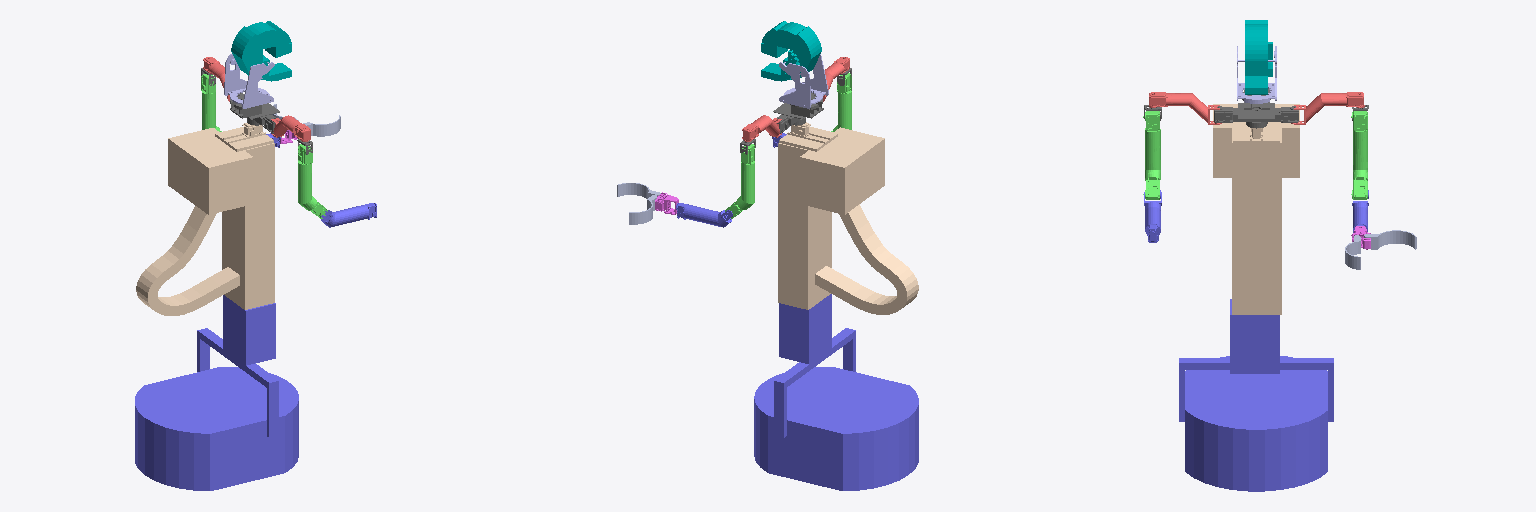
--- What the picture shows (computed from the rendered views, not written in the file) ---
Views: 3 orthographic renders of the robot side by side, from view 1: azimuth 30°, elevation 25°; view 2: azimuth 150°, elevation 25°; view 3: azimuth 270°, elevation 25°.
Robot: golem — 22 links, 21 joints (17 revolute, 1 prismatic, 3 fixed); root link world; default pose: all joints at 0.
Visible links, largest first — view 1: base_link, body, head2, head1, r_arm, chest, r_forearm, l_arm, r_shoulder_m10; view 2: base_link, body, head2, head1, l_arm, l_forearm, chest, r_arm, l_shoulder_m20; view 3: base_link, body, head2, chest, r_arm, l_arm, r_shoulder_m10, l_shoulder_m20, l_gripper_m27, r_forearm, head1.
Boxes of the visible links, x1,y1,x2,y2 form: base_link: [135, 295, 298, 490]; body: [136, 123, 274, 315]; head2: [231, 21, 291, 81]; head1: [224, 54, 274, 108]; r_arm: [298, 144, 327, 218]; chest: [230, 93, 279, 133]; r_forearm: [321, 203, 376, 227]; l_arm: [201, 74, 221, 131]; r_shoulder_m10: [271, 115, 310, 141]; base_link: [754, 294, 918, 490]; body: [778, 122, 918, 314]; head2: [761, 21, 821, 81]; head1: [779, 54, 828, 108]; l_arm: [725, 144, 754, 218]; l_forearm: [676, 203, 732, 227]; chest: [773, 93, 823, 133]; r_arm: [831, 73, 851, 131]; l_shoulder_m20: [742, 115, 781, 141]; base_link: [1179, 299, 1333, 491]; body: [1213, 104, 1299, 314]; head2: [1245, 20, 1272, 94]; chest: [1214, 89, 1298, 128]; r_arm: [1143, 111, 1160, 199]; l_arm: [1351, 111, 1367, 199]; r_shoulder_m10: [1149, 92, 1221, 124]; l_shoulder_m20: [1291, 92, 1364, 124]; l_gripper_m27: [1364, 230, 1416, 249]; r_forearm: [1144, 190, 1161, 242]; head1: [1237, 46, 1276, 103].
Size in the robot's own frame: 0.9882 by 0.8808 by 1.6 metres.
16 mesh visuals loaded from 19 distinct referenced files (16 binary STL); not drawn: 3 (reference not matched to a file when rendering).

The robot description file, URDF, robot "golem":
<?xml version="1.0" ?>
<!-- =================================================================================== -->
<!-- |    This document was autogenerated by xacro from golem.xacro                    | -->
<!-- |    EDITING THIS FILE BY HAND IS NOT RECOMMENDED                                 | -->
<!-- =================================================================================== -->
<!-- 
Author: Uriel Ortiz   
E-Mail: [email redacted]    
Date:   august/2016

This is the main XML code for the Golem URDF.
URDF allow to simulate accurately geometry and kinematics of a robot
with programs like gazebo or rviz.
-->
<robot name="golem">

  <!-- Used for fixing robot to Gazebo 'base_link' -->
  <link name="world"/>
  <!-- Base link -->
  <link name="base_link">
    <inertial>
      <origin rpy="0 0 0" xyz="0.0 0.0 0.0"/>
      <mass value="2"/>
      <inertia ixx="0.002" ixy="0.0000" ixz="0.0000" iyy="0.002" iyz="0.0000" izz="0.002"/>
    </inertial>
    <visual>
      <origin rpy="0 0 0" xyz="0 0 0"/>
      <geometry>
        <mesh filename="package://golem_description/meshes/base_link.STL"/>
      </geometry>
      <material name="">
        <color rgba="0.5 0.5 1 1"/>
      </material>
    </visual>
    <collision>
      <origin rpy="0 0 0" xyz="0 0 0"/>
      <geometry>
        <mesh filename="package://golem_description/meshes/base_link.STL"/>
      </geometry>
    </collision>
  </link>
  <joint name="fixed" type="fixed">
    <parent link="world"/>
    <child link="base_link"/>
  </joint>
  <!-- Body motor -->
  <link name="body">
    <inertial>
      <origin rpy="0 0 0" xyz="-0.0881112438415369 -0.000608832310704913 0.590311564445662"/>
      <mass value="1"/>
      <inertia ixx="0.002" ixy="0.000" ixz="0.000" iyy="0.002" iyz="0.000" izz="0.002"/>
    </inertial>
    <visual>
      <origin rpy="0 0 0" xyz="0 0 0"/>
      <geometry>
        <mesh filename="package://golem_description/meshes/body.STL"/>
      </geometry>
      <material name="">
        <color rgba="1.0 0.9 0.8 1"/>
      </material>
    </visual>
    <collision>
      <origin rpy="0 0 0" xyz="0 0 0"/>
      <geometry>
        <mesh filename="package://golem_description/meshes/body.STL"/>
      </geometry>
    </collision>
  </link>
  <joint name="mb" type="prismatic">
    <origin rpy="0.0 0.0 0.0" xyz="0.12661 0.0 0.37"/>
    <parent link="base_link"/>
    <child link="body"/>
    <axis xyz="0 0 1"/>
    <limit effort="5000.0" lower="0.0" upper="0.55" velocity="0.005"/>
    <dynamics friction="0.6"/>
  </joint>
  <!-- Chest motor -->
  <link name="chest">
    <inertial>
      <origin rpy="0 0 0" xyz="-0.00897011879110521 0.0 0.0676449232079905"/>
      <mass value="1.5"/>
      <inertia ixx="0.0020" ixy="0.0000" ixz="0.0000" iyy="0.0020" iyz="0.0" izz="0.0020"/>
    </inertial>
    <visual>
      <origin rpy="0 0 0" xyz="0 0 0"/>
      <geometry>
        <mesh filename="package://golem_description/meshes/chest.STL"/>
      </geometry>
      <material name="">
        <color rgba="0.5 0.5 0.5 1"/>
      </material>
    </visual>
    <collision>
      <origin rpy="0 0 0" xyz="0 0 0"/>
      <geometry>
        <mesh filename="package://golem_description/meshes/chest.STL"/>
      </geometry>
    </collision>
  </link>
  <joint name="m0" type="revolute">
    <origin rpy="0.0 0.0 0.0" xyz="0.035 0.0 0.85"/>
    <parent link="body"/>
    <child link="chest"/>
    <axis xyz="0 0 1"/>
    <limit effort="8.4" lower="-1" upper="1" velocity="0.1"/>
    <dynamics friction="0.6"/>
  </joint>
  <!-- Head motor 1 -->
  <link name="head1">
    <inertial>
      <origin rpy="0 0 0" xyz="-0.000589635969266311 0.00186429345558344 0.0382546423491974"/>
      <mass value="0.193219512017787"/>
      <inertia ixx="0.0008" ixy="0.0000" ixz="0.0000" iyy="0.0008" iyz="0.0000" izz="0.0008"/>
    </inertial>
    <visual>
      <origin rpy="0 0 0" xyz="0 0 0"/>
      <geometry>
        <mesh filename="package://golem_description/meshes/head1.STL"/>
      </geometry>
      <material name="">
        <color rgba="0.8 0.8 1 1"/>
      </material>
    </visual>
    <collision>
      <origin rpy="0 0 0" xyz="0 0 0"/>
      <geometry>
        <mesh filename="package://golem_description/meshes/head1.STL"/>
      </geometry>
    </collision>
  </link>
  <joint name="m1" type="revolute">
    <origin rpy="0.0 0.0 0.0" xyz="-0.028554 0.0 0.1328"/>
    <parent link="chest"/>
    <child link="head1"/>
    <axis xyz="0 0 1"/>
    <limit effort="8.4" lower="-1" upper="1" velocity="0.1"/>
    <dynamics friction="0.6"/>
  </joint>
  <!--Head motor 2 -->
  <link name="head2">
    <inertial>
      <origin rpy="0 0 0" xyz="-0.00618689637113473 0.0318619756298293 0.0631104669015432"/>
      <mass value="1.89645146647976"/>
      <inertia ixx="0.00655280092224716" ixy="-0.000266070117443091" ixz="5.61027113118384E-05" iyy="0.00607332840627649" iyz="0.000107578929571448" izz="0.0106713644751898"/>
    </inertial>
    <visual>
      <origin rpy="0 0 0" xyz="0 0 0"/>
      <geometry>
        <mesh filename="package://golem_description/meshes/head2.STL"/>
      </geometry>
      <material name="">
        <color rgba="0 0.752941176470588 0.752941176470588 1"/>
      </material>
    </visual>
    <collision>
      <origin rpy="0 0 0" xyz="0 0 0"/>
      <geometry>
        <mesh filename="package://golem_description/meshes/head2.STL"/>
      </geometry>
    </collision>
  </link>
  <joint name="m2" type="revolute">
    <origin rpy="1.5708 0.0 0.0" xyz="0.050318 0.064987 0.12937"/>
    <parent link="head1"/>
    <child link="head2"/>
    <axis xyz="0 0 1"/>
    <limit effort="8.4" lower="-1" upper="1" velocity="0.1"/>
    <dynamics friction="0.6"/>
  </joint>
  <!--Right shoulder m10 motor -->
  <link name="r_shoulder_m10">
    <inertial>
      <origin rpy="0 0 0" xyz="0.117811024350009 -2.32352220330134E-05 0.0429372756020914"/>
      <mass value="0.5"/>
      <inertia ixx="0.0020" ixy="0.0000" ixz="0.0000" iyy="0.0020" iyz="0.0000" izz="0.0020"/>
    </inertial>
    <visual>
      <origin rpy="0 0 0" xyz="0 0 0"/>
      <geometry>
        <mesh filename="package://golem_description/meshes/r_shoulder_m10.STL"/>
      </geometry>
      <material name="">
        <color rgba="1 0.5 0.5 1"/>
      </material>
    </visual>
    <collision>
      <origin rpy="0 0 0" xyz="0 0 0"/>
      <geometry>
        <mesh filename="package://golem_description/meshes/r_shoulder_m10.STL"/>
      </geometry>
    </collision>
  </link>
  <joint name="m10" type="revolute">
    <origin rpy="0.0 0.0 -1.5708" xyz="0 -0.1225 0.0593"/>
    <parent link="chest"/>
    <child link="r_shoulder_m10"/>
    <axis xyz="0 0 1"/>
    <limit effort="100.0" lower="-1.14" upper="1.75" velocity="0.1"/>
    <dynamics friction="0.6"/>
  </joint>
  <!--Right shoulder m11 motor -->
  <link name="r_shoulder_m11">
    <inertial>
      <origin rpy="0 0 0" xyz="-0.00429117580061061 0.0 -0.0397852819427538"/>
      <mass value="0.009"/>
      <inertia ixx="0.0002" ixy="0.0" ixz="0.0" iyy="0.0002" iyz="0.0" izz="0.0002"/>
    </inertial>
    <visual>
      <origin rpy="0 0 0" xyz="0 0 0"/>
      <geometry>
        <mesh filename="package://golem_description/meshes/r_shoulder_m11.STL"/>
      </geometry>
      <material name="">
        <color rgba="0.5 0.5 0.5 1"/>
      </material>
    </visual>
    <collision>
      <origin rpy="0 0 0" xyz="0 0 0"/>
      <geometry>
        <mesh filename="package://golem_description/meshes/r_shoulder_m11.STL"/>
      </geometry>
    </collision>
  </link>
  <joint name="m11" type="revolute">
    <origin rpy="0.0 0.0 0.0" xyz="0.212 0.0 0.054396"/>
    <parent link="r_shoulder_m10"/>
    <child link="r_shoulder_m11"/>
    <axis xyz="0 0 1"/>
    <limit effort="100.0" lower="-3" upper="3" velocity="0.1"/>
    <dynamics friction="0.6"/>
  </joint>
  <!-- Right arm motor -->
  <link name="r_arm">
    <inertial>
      <origin rpy="0 0 0" xyz="0.131360969349986 0.00869049182380488 0.000487078032783306"/>
      <mass value="0.5"/>
      <inertia ixx="0.002" ixy="0.0000" ixz="0.0000" iyy="0.002" iyz="0.0000" izz="0.002"/>
    </inertial>
    <visual>
      <origin rpy="0 0 0" xyz="0 0 0"/>
      <geometry>
        <mesh filename="package://golem_description/meshes/r_arm.STL"/>
      </geometry>
      <material name="">
        <color rgba="0.501960784313725 1 0.501960784313725 1"/>
      </material>
    </visual>
    <collision>
      <origin rpy="0 0 0" xyz="0 0 0"/>
      <geometry>
        <mesh filename="package://golem_description/meshes/r_arm.STL"/>
      </geometry>
    </collision>
  </link>
  <joint name="m12" type="revolute">
    <origin rpy="0.0 1.57079632679 0" xyz="0.0 0.0 -0.06"/>
    <parent link="r_shoulder_m11"/>
    <child link="r_arm"/>
    <axis xyz="0 0 1"/>
    <limit effort="100.0" lower="-1.55" upper="1.55" velocity="0.1"/>
    <dynamics friction="0.6"/>
  </joint>
  <!-- Right forearm  -->
  <link name="r_forearm">
    <inertial>
      <origin rpy="0 0 0" xyz="0.108270232216097 0.0483698597482063 -0.000350351491485268"/>
      <mass value="1.0"/>
      <inertia ixx="0.001" ixy="0.0000" ixz="0.0000" iyy="0.001" iyz="0.0000" izz="0.002"/>
    </inertial>
    <visual>
      <origin rpy="0 0 -0.785398163397" xyz="0 0 0"/>
      <geometry>
        <mesh filename="package://golem_description/meshes/r_forearm.STL"/>
      </geometry>
      <material name="">
        <color rgba="0.501960784313725 0.501960784313725 1 1"/>
      </material>
    </visual>
    <collision>
      <origin rpy="0 0 -0.785398163397" xyz="0 0 0"/>
      <geometry>
        <mesh filename="package://golem_description/meshes/r_forearm.STL"/>
      </geometry>
    </collision>
  </link>
  <joint name="m13" type="revolute">
    <origin rpy="0.0 0.0 1.57079632679" xyz="0.24895 0.05978 0"/>
    <parent link="r_arm"/>
    <child link="r_forearm"/>
    <axis xyz="0 0 1"/>
    <limit effort="100.0" lower="-1.67" upper="1.67" velocity="0.1"/>
    <dynamics friction="0.6"/>
  </joint>
  <!-- Right wrist motor -->
  <link name="r_wrist">
    <inertial>
      <origin rpy="0 0 0" xyz="0.0049946466652247 -0.00176382149218224 0.0531597075092114"/>
      <mass value="0.031134878193257"/>
      <inertia ixx="0.00003" ixy="0.0000" ixz="0.0000" iyy="0.00005" iyz="0.0000" izz="0.00003"/>
    </inertial>
    <visual>
      <origin rpy="0 0 0" xyz="0 0 0"/>
      <geometry>
        <mesh filename="package://golem_description/meshes/r_wrist.STL"/>
      </geometry>
      <material name="">
        <color rgba="1 0.501960784313725 1 1"/>
      </material>
    </visual>
    <collision>
      <origin rpy="0 0 0" xyz="0 0 0"/>
      <geometry>
        <mesh filename="package://golem_description/meshes/r_wrist.STL"/>
      </geometry>
    </collision>
  </link>
  <!--"0.16536 0.11838 0.0"-->
  <joint name="m14" type="revolute">
    <origin rpy="1.57079632679 0.0 1.57079632679" xyz="0.200 -0.034 0"/>
    <parent link="r_forearm"/>
    <child link="r_wrist"/>
    <axis xyz="0 0 1"/>
    <limit effort="100.0" lower="-1.5" upper="1.5" velocity="0.1"/>
    <dynamics friction="0.6"/>
  </joint>
  <!-- Right virtual joint to indicate center of the gripper -->
  <link name="r_eef"/>
  <joint name="r_eef_end" type="fixed">
    <origin rpy="-1.57079632679 -1.57079632679 -1.57079632679" xyz="0.0 0.0 0.2"/>
    <parent link="r_wrist"/>
    <child link="r_eef"/>
  </joint>
  <!-- Right gripper m15 motor -->
  <link name="r_gripper_m15">
    <inertial>
      <origin rpy="0 0 0" xyz="0.0668949493902101 -0.00886945271498024 0.00431771664598063"/>
      <mass value="0.0609094064539815"/>
      <inertia ixx="0.00020" ixy="0.0000" ixz="0.0000" iyy="0.00020" iyz="0.0000" izz="0.00020"/>
    </inertial>
    <visual>
      <origin rpy="0 0 0" xyz="0 0 0"/>
      <geometry>
        <mesh filename="package://golem_description/meshes/r_gripper_m15.STL"/>
      </geometry>
      <material name="">
        <color rgba="0.792156862745098 0.819607843137255 0.933333333333333 1"/>
      </material>
    </visual>
    <collision>
      <origin rpy="0 0 0" xyz="0 0 0"/>
      <geometry>
        <mesh filename="package://golem_description/meshes/r_gripper_m15.STL"/>
      </geometry>
    </collision>
  </link>
  <joint name="m15" type="revolute">
    <origin rpy="-1.57079632679 -1.57079632679 -1.57079632679" xyz="0.0 0.010755 0.10471"/>
    <parent link="r_wrist"/>
    <child link="r_gripper_m15"/>
    <axis xyz="0 0 -1"/>
    <limit effort="1.5" lower="0" upper="1.6" velocity="0.1"/>
    <dynamics friction="0.6"/>
  </joint>
  <!-- Right gripper m17 motor-->
  <link name="r_gripper_m17">
    <inertial>
      <origin rpy="0 0 0" xyz="0.06689494939021 0.00886945271498008 0.00431771664598052"/>
      <mass value="0.0609094064539814"/>
      <inertia ixx="0.00020" ixy="0.0000" ixz="0.0000" iyy="0.00020" iyz="0.0000" izz="0.00020"/>
    </inertial>
    <visual>
      <origin rpy="0 0 0" xyz="0 0 0"/>
      <geometry>
        <mesh filename="package://golem_description/meshes/r_gripper_m17.STL"/>
      </geometry>
      <material name="">
        <color rgba="0.792156862745098 0.819607843137255 0.933333333333333 1"/>
      </material>
    </visual>
    <collision>
      <origin rpy="0 0 0" xyz="0 0 0"/>
      <geometry>
        <mesh filename="package://golem_description/meshes/r_gripper_m17.STL"/>
      </geometry>
    </collision>
  </link>
  <joint name="m17" type="revolute">
    <origin rpy="-1.57079632679 0.0 -1.57079632679" xyz="0.0003 -0.021173 0.10255"/>
    <parent link="r_wrist"/>
    <child link="r_gripper_m17"/>
    <axis xyz="0 0 -1"/>
    <limit effort="1.5" lower="0" upper="1.6" velocity="0.1"/>
    <dynamics friction="0.6"/>
  </joint>
  <!-- Left shouder m20 motor -->
  <link name="l_shoulder_m20">
    <inertial>
      <origin rpy="0 0 0" xyz="0.117811024349998 -2.32352220331244E-05 0.0429372756020854"/>
      <mass value="0.315227646337632"/>
      <inertia ixx="0.002" ixy="0.0000" ixz="0.000" iyy="0.002" iyz="0.0000" izz="0.002"/>
    </inertial>
    <visual>
      <origin rpy="0 0 0" xyz="0 0 0"/>
      <geometry>
        <mesh filename="package://golem_description/meshes/l_shoulder_m20.STL"/>
      </geometry>
      <material name="">
        <color rgba="1 0.501960784313725 0.501960784313725 1"/>
      </material>
    </visual>
    <collision>
      <origin rpy="0 0 0" xyz="0 0 0"/>
      <geometry>
        <mesh filename="package://golem_description/meshes/l_shoulder_m20.STL"/>
      </geometry>
    </collision>
  </link>
  <joint name="m20" type="revolute">
    <origin rpy="0.0 0.0 1.5708" xyz="0 0.1225 0.0593"/>
    <parent link="chest"/>
    <child link="l_shoulder_m20"/>
    <axis xyz="0 0 1"/>
    <limit effort="100" lower="-1.14" upper="1.75" velocity="0.1"/>
    <dynamics friction="0.6"/>
  </joint>
  <!-- Left shoulder m21 motor-->
  <link name="l_shoulder_m21">
    <inertial>
      <origin rpy="0 0 0" xyz="0.00429943368445523 -4.92661467177413E-13 0.0397852819427535"/>
      <mass value="0.00839075663685627"/>
      <inertia ixx="0.0002" ixy="0.0" ixz="0.0" iyy="0.0002" iyz="0.0" izz="0.0002"/>
    </inertial>
    <visual>
      <origin rpy="0 0 0" xyz="0 0 0"/>
      <geometry>
        <mesh filename="package://golem_description/meshes/l_shoulder_m21.STL"/>
      </geometry>
      <material name="">
        <color rgba="0.501960784313725 0.501960784313725 0.501960784313725 1"/>
      </material>
    </visual>
    <collision>
      <origin rpy="0 0 0" xyz="0 0 0"/>
      <geometry>
        <mesh filename="package://golem_description/meshes/l_shoulder_m21.STL"/>
      </geometry>
    </collision>
  </link>
  <joint name="m21" type="revolute">
    <origin rpy="-3.1416 0.0 3.1416" xyz="0.212 0.0 0.054396"/>
    <parent link="l_shoulder_m20"/>
    <child link="l_shoulder_m21"/>
    <axis xyz="0 0 1"/>
    <limit effort="100" lower="-3" upper="3" velocity="0.1"/>
    <dynamics friction="0.6"/>
  </joint>
  <!-- Left arm motor -->
  <link name="l_arm">
    <inertial>
      <origin rpy="0 0 0" xyz="0.131360969349986 0.00869049182380505 0.00048707803278325"/>
      <mass value="0.523875208233877"/>
      <inertia ixx="0.002" ixy="0.0000" ixz="0.0000" iyy="0.002" iyz="0.0000" izz="0.002"/>
    </inertial>
    <visual>
      <origin rpy="0 0 0" xyz="0 0 0"/>
      <geometry>
        <mesh filename="package://golem_description/meshes/l_arm.STL"/>
      </geometry>
      <material name="">
        <color rgba="0.501960784313725 1 0.501960784313725 1"/>
      </material>
    </visual>
    <collision>
      <origin rpy="0 0 0" xyz="0 0 0"/>
      <geometry>
        <mesh filename="package://golem_description/meshes/l_arm.STL"/>
      </geometry>
    </collision>
  </link>
  <joint name="m22" type="revolute">
    <origin rpy="3.14159265359 -1.57079632679 0.0" xyz="0.0 0.0 0.06"/>
    <parent link="l_shoulder_m21"/>
    <child link="l_arm"/>
    <axis xyz="0 0 -1"/>
    <limit effort="100.0" lower="-1.55" upper="1.55" velocity="0.1"/>
    <dynamics friction="0.6"/>
  </joint>
  <!-- Left Forearm motor -->
  <link name="l_forearm">
    <inertial>
      <origin rpy="0 0 0" xyz="0.108270232216093 0.0483698597482032 -0.000350351491486045"/>
      <mass value="0.376568906552166"/>
      <inertia ixx="0.001" ixy="0.0000" ixz="0.0000" iyy="0.001" iyz="0.0000" izz="0.002"/>
    </inertial>
    <visual>
      <origin rpy="0 0 -0.785398163397" xyz="0 0 0"/>
      <geometry>
        <mesh filename="package://golem_description/meshes/l_forearm.STL"/>
      </geometry>
      <material name="">
        <color rgba="0.501960784313725 0.501960784313725 1 1"/>
      </material>
    </visual>
    <collision>
      <origin rpy="0 0 -0.785398163397" xyz="0 0 0"/>
      <geometry>
        <mesh filename="package://golem_description/meshes/l_forearm.STL"/>
      </geometry>
    </collision>
  </link>
  <joint name="m23" type="revolute">
    <origin rpy="0.0 0.0 1.57079632679" xyz="0.24895 0.05978 0.0"/>
    <parent link="l_arm"/>
    <child link="l_forearm"/>
    <axis xyz="0 0 -1"/>
    <limit effort="100.0" lower="-1.55" upper="1.55" velocity="0.1"/>
    <dynamics friction="0.6"/>
  </joint>
  <!-- Left wrist motor -->
  <link name="l_wrist">
    <inertial>
      <origin rpy="0 0 0" xyz="0.00499371660552256 -0.00176269973546561 0.0531563838624657"/>
      <mass value="0.0311387724661603"/>
      <inertia ixx="0.00003" ixy="0.0000" ixz="0.0000" iyy="0.00005" iyz="0.0000" izz="0.00003"/>
    </inertial>
    <visual>
      <origin rpy="0.0 0.0 0.0" xyz="0.0 0.0 0.0"/>
      <geometry>
        <mesh filename="package://golem_description/meshes/l_wrist.STL"/>
      </geometry>
      <material name="">
        <color rgba="1 0.501960784313725 1 1"/>
      </material>
    </visual>
    <collision>
      <origin rpy="0.0 0.0 0.0" xyz="0.0 0.0 0.0"/>
      <geometry>
        <mesh filename="package://golem_description/meshes/l_wrist.STL"/>
      </geometry>
    </collision>
  </link>
  <joint name="m24" type="revolute">
    <origin rpy="1.57079632679 0.0 1.57079632679" xyz="0.2 -0.034 0.0"/>
    <parent link="l_forearm"/>
    <child link="l_wrist"/>
    <axis xyz="0 0 1"/>
    <limit effort="3.7" lower="-1.67" upper="1.67" velocity="0.1"/>
    <dynamics friction="0.6"/>
  </joint>
  <!-- Left virtual joint to indicate center of the gripper -->
  <link name="l_eef"/>
  <joint name="l_eef_end" type="fixed">
    <origin rpy="-1.57079632679 -1.57079632679 -1.57079632679" xyz="0.0 0.0 0.2"/>
    <parent link="l_wrist"/>
    <child link="l_eef"/>
  </joint>
  <!-- Ledt gripper m25 motor -->
  <link name="l_gripper_m25">
    <inertial>
      <origin rpy="0 0 0" xyz="0.0668949493902099 -0.00886945271498052 0.00431771664598046"/>
      <mass value="0.0609094064539814"/>
      <inertia ixx="0.00004" ixy="0.0000" ixz="0.0000" iyy="0.00020" iyz="0.0000" izz="0.00020"/>
    </inertial>
    <visual>
      <origin rpy="0 0 0" xyz="0 0 0"/>
      <geometry>
        <mesh filename="package://golem_description/meshes/l_gripper_m25.STL"/>
      </geometry>
      <material name="">
        <color rgba="0.792156862745098 0.819607843137255 0.933333333333333 1"/>
      </material>
    </visual>
    <collision>
      <origin rpy="0 0 0" xyz="0 0 0"/>
      <geometry>
        <mesh filename="package://golem_description/meshes/l_gripper_m25.STL"/>
      </geometry>
    </collision>
  </link>
  <joint name="m25" type="revolute">
    <origin rpy="-1.57079632679 -1.57079632679 -1.57079632679" xyz="0.0 0.010755 0.10471"/>
    <parent link="l_wrist"/>
    <child link="l_gripper_m25"/>
    <axis xyz="0 0 -1"/>
    <limit effort="100.0" lower="0" upper="1.6" velocity="0.1"/>
    <dynamics friction="0.6"/>
  </joint>
  <!-- Left gripper m27 motor -->
  <link name="l_gripper_m27">
    <inertial>
      <origin rpy="0 0 0" xyz="0.0668949493902098 0.00886945271498041 0.00431771664598063"/>
      <mass value="0.0609094064539813"/>
      <inertia ixx="0.0002" ixy="0.0000" ixz="0.0000" iyy="0.0002" iyz="0.0000" izz="0.0002"/>
    </inertial>
    <visual>
      <origin rpy="0 0 0" xyz="0 0 0"/>
      <geometry>
        <mesh filename="package://golem_description/meshes/l_gripper_m27.STL"/>
      </geometry>
      <material name="">
        <color rgba="0.792156862745098 0.819607843137255 0.933333333333333 1"/>
      </material>
    </visual>
    <collision>
      <origin rpy="0 0 0" xyz="0 0 0"/>
      <geometry>
        <mesh filename="package://golem_description/meshes/l_gripper_m27.STL"/>
      </geometry>
    </collision>
  </link>
  <joint name="m27" type="revolute">
    <origin rpy="-1.57079632679 0.0 -1.57079632679" xyz="0.003 -0.021173 0.10255"/>
    <parent link="l_wrist"/>
    <child link="l_gripper_m27"/>
    <axis xyz="0 0 -1"/>
    <limit effort="100.0" lower="0" upper="1.6" velocity="0.1"/>
    <dynamics friction="0.6"/>
  </joint>
  <!-- Transmission elements-->
  <!-- Necessary for the ros_control simulation -->
  <!--Body-->
  <transmission name="body_transmission">
    <type>transmission_interface/SimpleTransmission</type>
    <joint name="mb">
      <hardwareInterface>EffortJointInterface</hardwareInterface>
    </joint>
    <actuator name="body_motor">
      <hardwareInterface>EffortJointInterface</hardwareInterface>
      <mechanicalReduction>1</mechanicalReduction>
    </actuator>
  </transmission>
  <!--Chest-->
  <transmission name="chest_transmission">
    <type>transmission_interface/SimpleTransmission</type>
    <joint name="m0">
      <hardwareInterface>EffortJointInterface</hardwareInterface>
    </joint>
    <actuator name="chest_motor">
      <hardwareInterface>EffortJointInterface</hardwareInterface>
      <mechanicalReduction>1</mechanicalReduction>
    </actuator>
  </transmission>
  <!--Head 1-->
  <transmission name="head1_transmission">
    <type>transmission_interface/SimpleTransmission</type>
    <joint name="m1">
      <hardwareInterface>EffortJointInterface</hardwareInterface>
    </joint>
    <actuator name="head1_motor">
      <hardwareInterface>EffortJointInterface</hardwareInterface>
      <mechanicalReduction>0.01</mechanicalReduction>
    </actuator>
  </transmission>
  <!-- Head 2 -->
  <transmission name="head2_transmission">
    <type>transmission_interface/SimpleTransmission</type>
    <joint name="m2">
      <hardwareInterface>EffortJointInterface</hardwareInterface>
    </joint>
    <actuator name="head2_motor">
      <hardwareInterface>EffortJointInterface</hardwareInterface>
      <mechanicalReduction>50.0</mechanicalReduction>
    </actuator>
  </transmission>
  <!-- Right shoulder motor 10 -->
  <transmission name="r_shoulder10_transmission">
    <type>transmission_interface/SimpleTransmission</type>
    <joint name="m10">
      <hardwareInterface>EffortJointInterface</hardwareInterface>
    </joint>
    <actuator name="r_shoulder10_motor">
      <hardwareInterface>EffortJointInterface</hardwareInterface>
      <mechanicalReduction>1</mechanicalReduction>
    </actuator>
  </transmission>
  <!-- Right shoulder motor 11 -->
  <transmission name="r_shoulder11_transmission">
    <type>transmission_interface/SimpleTransmission</type>
    <joint name="m11">
      <hardwareInterface>EffortJointInterface</hardwareInterface>
    </joint>
    <actuator name="r_shoulder11_motor">
      <hardwareInterface>EffortJointInterface</hardwareInterface>
      <mechanicalReduction>1</mechanicalReduction>
    </actuator>
  </transmission>
  <!-- Right arm -->
  <transmission name="r_arm_transmission">
    <type>transmission_interface/SimpleTransmission</type>
    <joint name="m12">
      <hardwareInterface>EffortJointInterface</hardwareInterface>
    </joint>
    <actuator name="r_arm_motor">
      <hardwareInterface>EffortJointInterface</hardwareInterface>
      <mechanicalReduction>1</mechanicalReduction>
    </actuator>
  </transmission>
  <!-- Right forearm -->
  <transmission name="r_forearm_transmission">
    <type>transmission_interface/SimpleTransmission</type>
    <joint name="m13">
      <hardwareInterface>EffortJointInterface</hardwareInterface>
    </joint>
    <actuator name="r_forearm_motor">
      <hardwareInterface>EffortJointInterface</hardwareInterface>
      <mechanicalReduction>1</mechanicalReduction>
    </actuator>
  </transmission>
  <!-- Right wrist -->
  <transmission name="r_wrist_transmission">
    <type>transmission_interface/SimpleTransmission</type>
    <joint name="m14">
      <hardwareInterface>EffortJointInterface</hardwareInterface>
    </joint>
    <actuator name="r_wrist_motor">
      <hardwareInterface>EffortJointInterface</hardwareInterface>
      <mechanicalReduction>1</mechanicalReduction>
    </actuator>
  </transmission>
  <!-- Right gripper motor 15 -->
  <transmission name="r_gripper15_transmission">
    <type>transmission_interface/SimpleTransmission</type>
    <joint name="m15">
      <hardwareInterface>EffortJointInterface</hardwareInterface>
    </joint>
    <actuator name="r_gripper15_motor">
      <hardwareInterface>EffortJointInterface</hardwareInterface>
      <mechanicalReduction>1</mechanicalReduction>
    </actuator>
  </transmission>
  <!-- Right gripper motor 17 -->
  <transmission name="r_gripper17_transmission">
    <type>transmission_interface/SimpleTransmission</type>
    <joint name="m17">
      <hardwareInterface>EffortJointInterface</hardwareInterface>
    </joint>
    <actuator name="r_gripper17_motor">
      <hardwareInterface>EffortJointInterface</hardwareInterface>
      <mechanicalReduction>1</mechanicalReduction>
    </actuator>
  </transmission>
  <!-- Left shoulder motor 20 -->
  <transmission name="l_shoulder20_transmission">
    <type>transmission_interface/SimpleTransmission</type>
    <joint name="m20">
      <hardwareInterface>EffortJointInterface</hardwareInterface>
    </joint>
    <actuator name="l_shoulder20_motor">
      <hardwareInterface>EffortJointInterface</hardwareInterface>
      <mechanicalReduction>1</mechanicalReduction>
    </actuator>
  </transmission>
  <!-- Left shoulder motor 21 -->
  <transmission name="l_shoulder21_transmission">
    <type>transmission_interface/SimpleTransmission</type>
    <joint name="m21">
      <hardwareInterface>EffortJointInterface</hardwareInterface>
    </joint>
    <actuator name="l_shoulder21_motor">
      <hardwareInterface>EffortJointInterface</hardwareInterface>
      <mechanicalReduction>1</mechanicalReduction>
    </actuator>
  </transmission>
  <!-- Left arm -->
  <transmission name="l_arm_transmission">
    <type>transmission_interface/SimpleTransmission</type>
    <joint name="m22">
      <hardwareInterface>EffortJointInterface</hardwareInterface>
    </joint>
    <actuator name="l_arm_motor">
      <hardwareInterface>EffortJointInterface</hardwareInterface>
      <mechanicalReduction>1</mechanicalReduction>
    </actuator>
  </transmission>
  <!-- Left forearm -->
  <transmission name="l_forearm_transmission">
    <type>transmission_interface/SimpleTransmission</type>
    <joint name="m23">
      <hardwareInterface>EffortJointInterface</hardwareInterface>
    </joint>
    <actuator name="l_forearm_motor">
      <hardwareInterface>EffortJointInterface</hardwareInterface>
      <mechanicalReduction>1</mechanicalReduction>
    </actuator>
  </transmission>
  <!-- Left wrist -->
  <transmission name="l_wrist_transmission">
    <type>transmission_interface/SimpleTransmission</type>
    <joint name="m24">
      <hardwareInterface>EffortJointInterface</hardwareInterface>
    </joint>
    <actuator name="l_wrist_motor">
      <hardwareInterface>EffortJointInterface</hardwareInterface>
      <mechanicalReduction>1</mechanicalReduction>
    </actuator>
  </transmission>
  <!-- Left gripper motor 25 -->
  <transmission name="l_gripper25_transmission">
    <type>transmission_interface/SimpleTransmission</type>
    <joint name="m25">
      <hardwareInterface>EffortJointInterface</hardwareInterface>
    </joint>
    <actuator name="l_gripper25_motor">
      <hardwareInterface>EffortJointInterface</hardwareInterface>
      <mechanicalReduction>1</mechanicalReduction>
    </actuator>
  </transmission>
  <!-- Left gripper motor 27 -->
  <transmission name="l_gripper27_transmission">
    <type>transmission_interface/SimpleTransmission</type>
    <joint name="m27">
      <hardwareInterface>EffortJointInterface</hardwareInterface>
    </joint>
    <actuator name="l_gripper27_motor">
      <hardwareInterface>EffortJointInterface</hardwareInterface>
      <mechanicalReduction>1</mechanicalReduction>
    </actuator>
  </transmission>
</robot>
